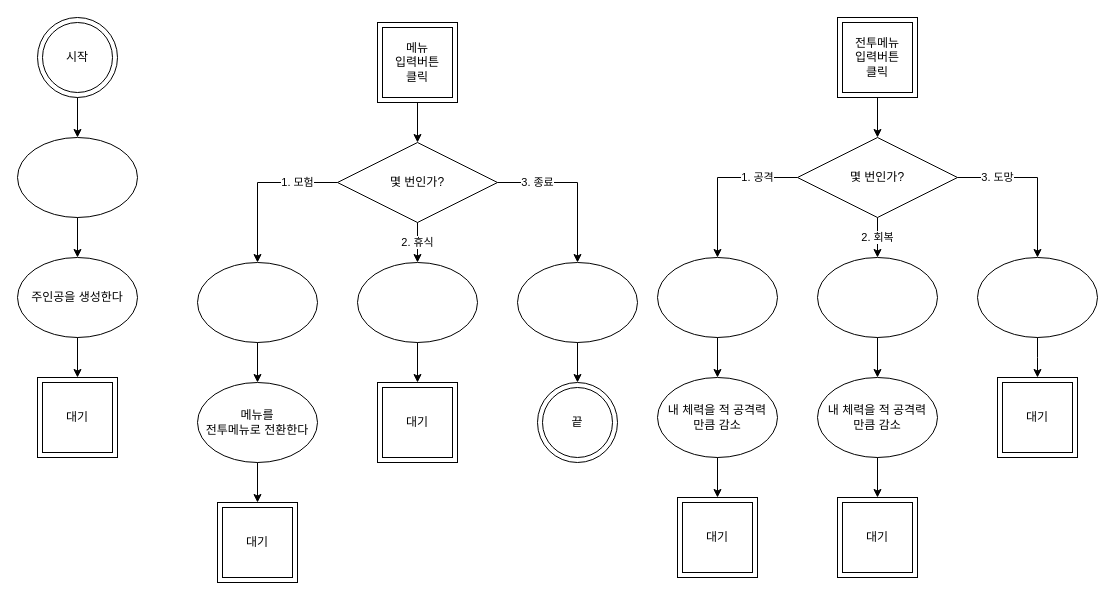
Image size: 1115x600. Some labels were removed from this diagram. Here are the shapes that lost their labels. From the top down, the centre of each, then its label:
the point at 77,177: 이름을 입력받는다
the point at 257,302: 적을 생성한다
the point at 417,302: 주인공의 체력을 모두 회복한다
the point at 577,302: 화면에 종료안내 메시지를 표시한다
the point at 717,297: 적 몬스터의 체력을 공격력만큼 감소
the point at 877,297: 체력을 20 회복한다
the point at 1037,297: 전투메뉴에서 빠져나와 일반 메뉴로 전환
